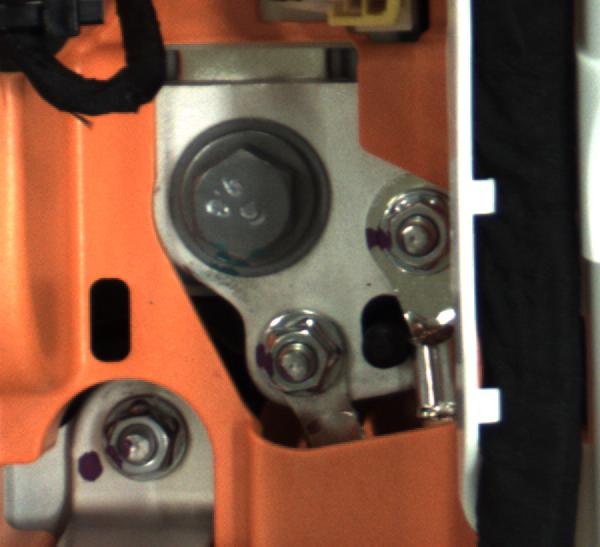nut_b: (163, 124, 336, 272)
screw_s: (248, 298, 368, 410), (97, 393, 200, 482), (377, 191, 456, 284)
